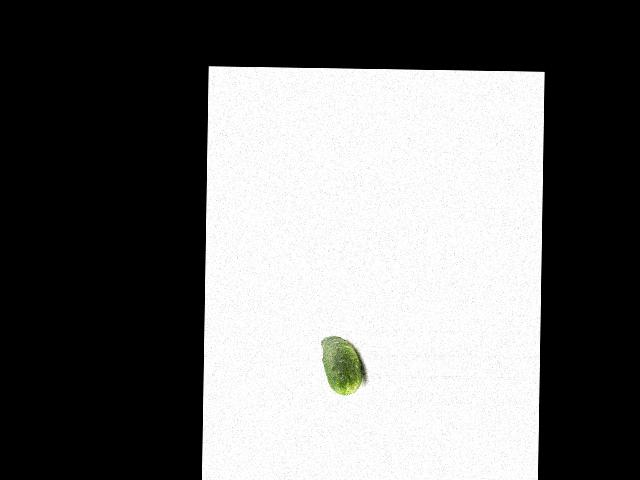cucumber: (320, 335, 363, 395)
